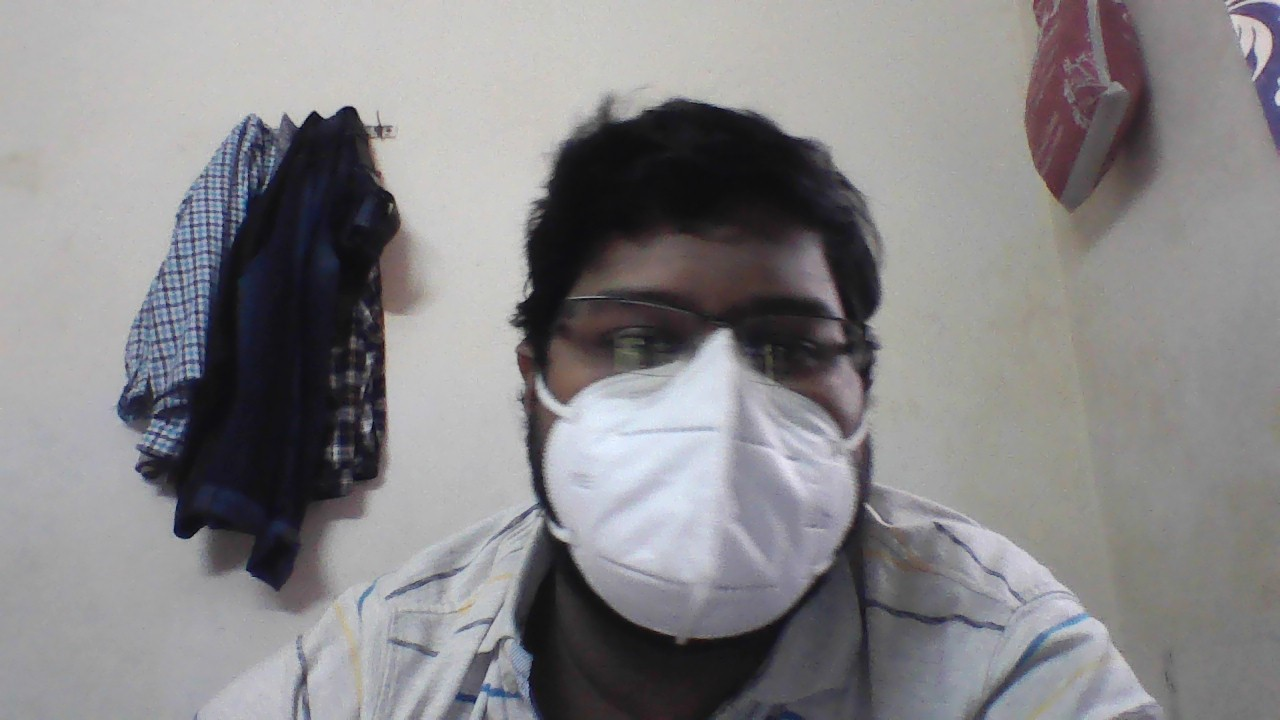Mask: (518, 351, 876, 562)
